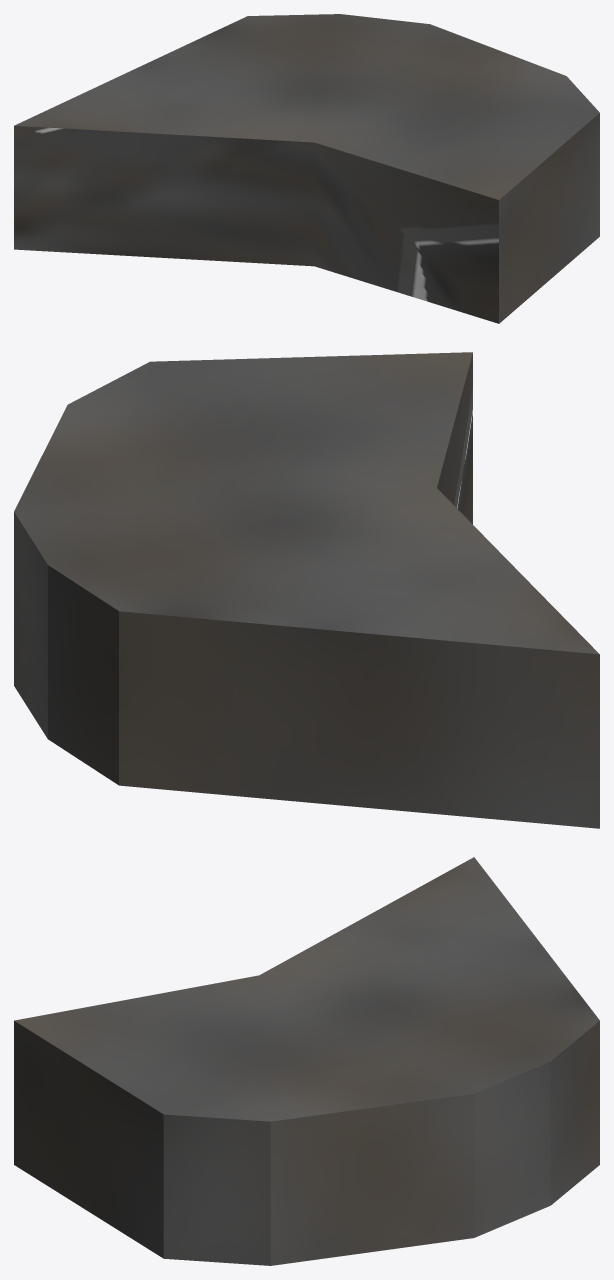
The model's file is ishi_01_2_2.fbx.
3 renders of one model, top to bottom at view 1: azimuth 30°, elevation 25°; view 2: azimuth 150°, elevation 25°; view 3: azimuth 270°, elevation 25°, orthographic. The views are drawn at different scales.
Visible parts, largest first — view 1: polySurface1; view 2: polySurface1; view 3: polySurface1.
Boxes of the visible parts, <box> form: polySurface1: <box>14,14,599,323</box>; polySurface1: <box>14,352,599,828</box>; polySurface1: <box>14,857,599,1265</box>.
Bounding box in the file's own units: 18.32 × 4.66 × 17.14.
1 material, 1 textured.
